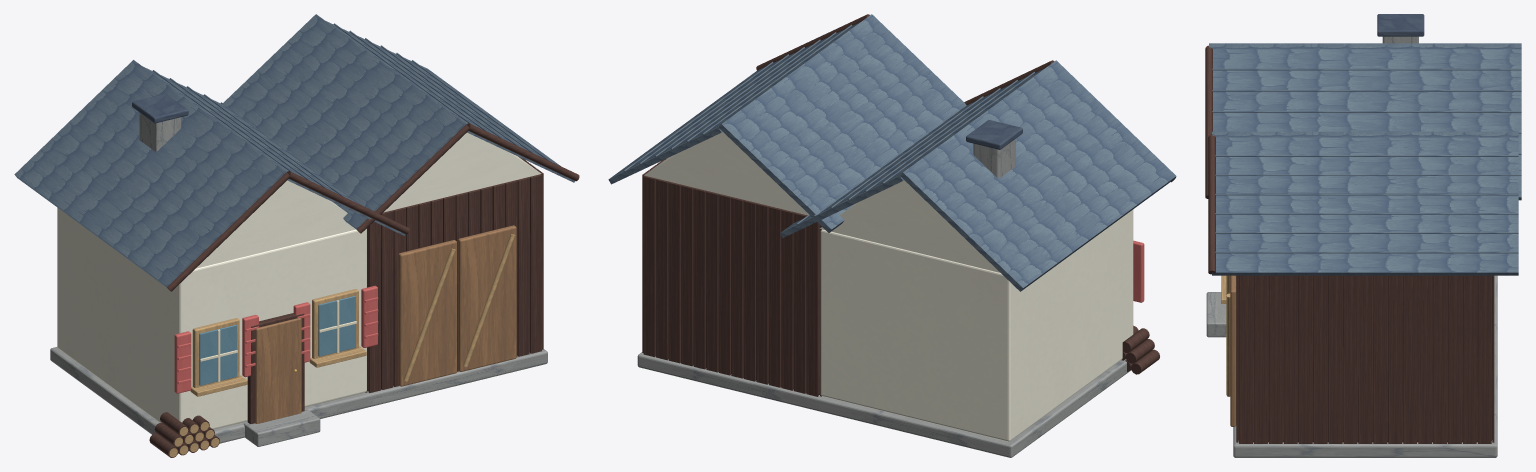
File: house_3.glb
The picture shows the model from 3 angles, left to right: view 1: azimuth 30°, elevation 25°; view 2: azimuth 150°, elevation 25°; view 3: azimuth 270°, elevation 25°; orthographic projection. The views are drawn at different scales.
Visible parts, largest first — view 1: house_3; view 2: house_3; view 3: house_3.
Boxes of the visible parts, x1,y1,x2,y2 form: house_3: (14,14,579,457); house_3: (608,14,1176,457); house_3: (1205,14,1521,457).
Size of the model in its own units: 8.34 by 5.28 by 5.37.
Materials: 3 (3 with a texture image).
